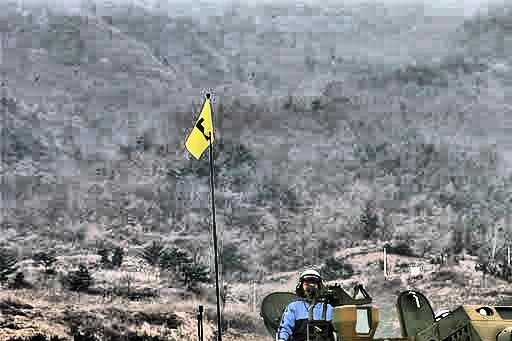tanks: (382, 293, 512, 341), (317, 291, 378, 341), (285, 337, 289, 341), (308, 339, 315, 341)
